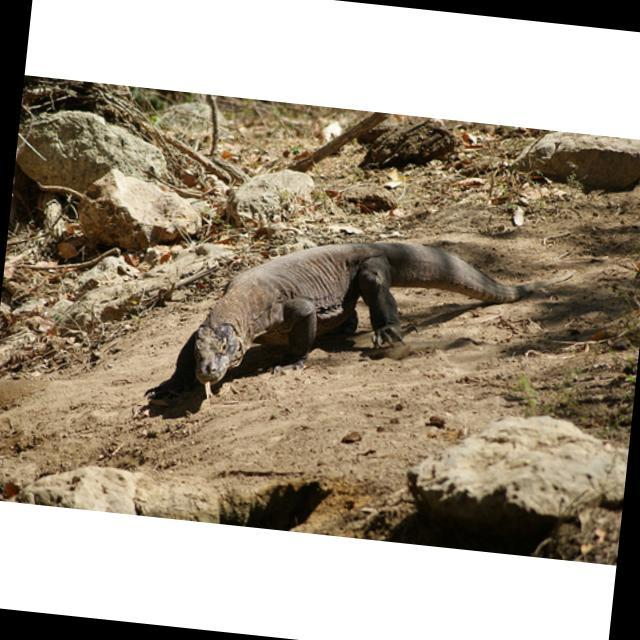KomodoDragon: (182, 221, 575, 439)
